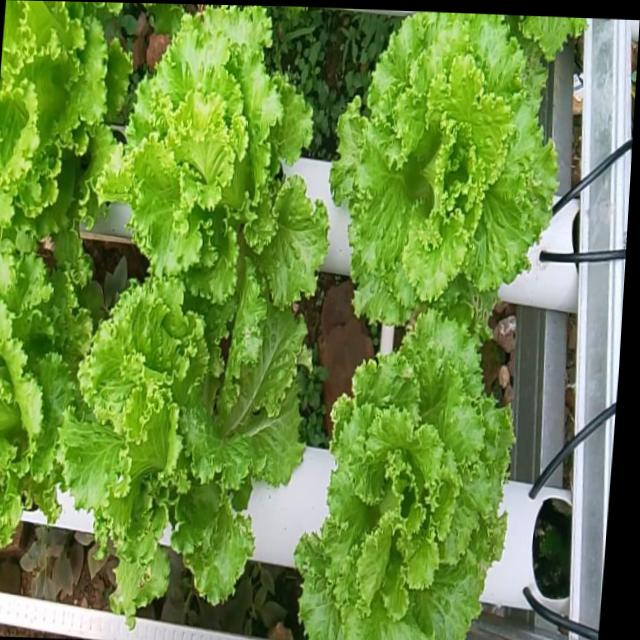Mature: (63, 262, 309, 610), (297, 304, 518, 640), (333, 11, 561, 322), (100, 5, 332, 303)
